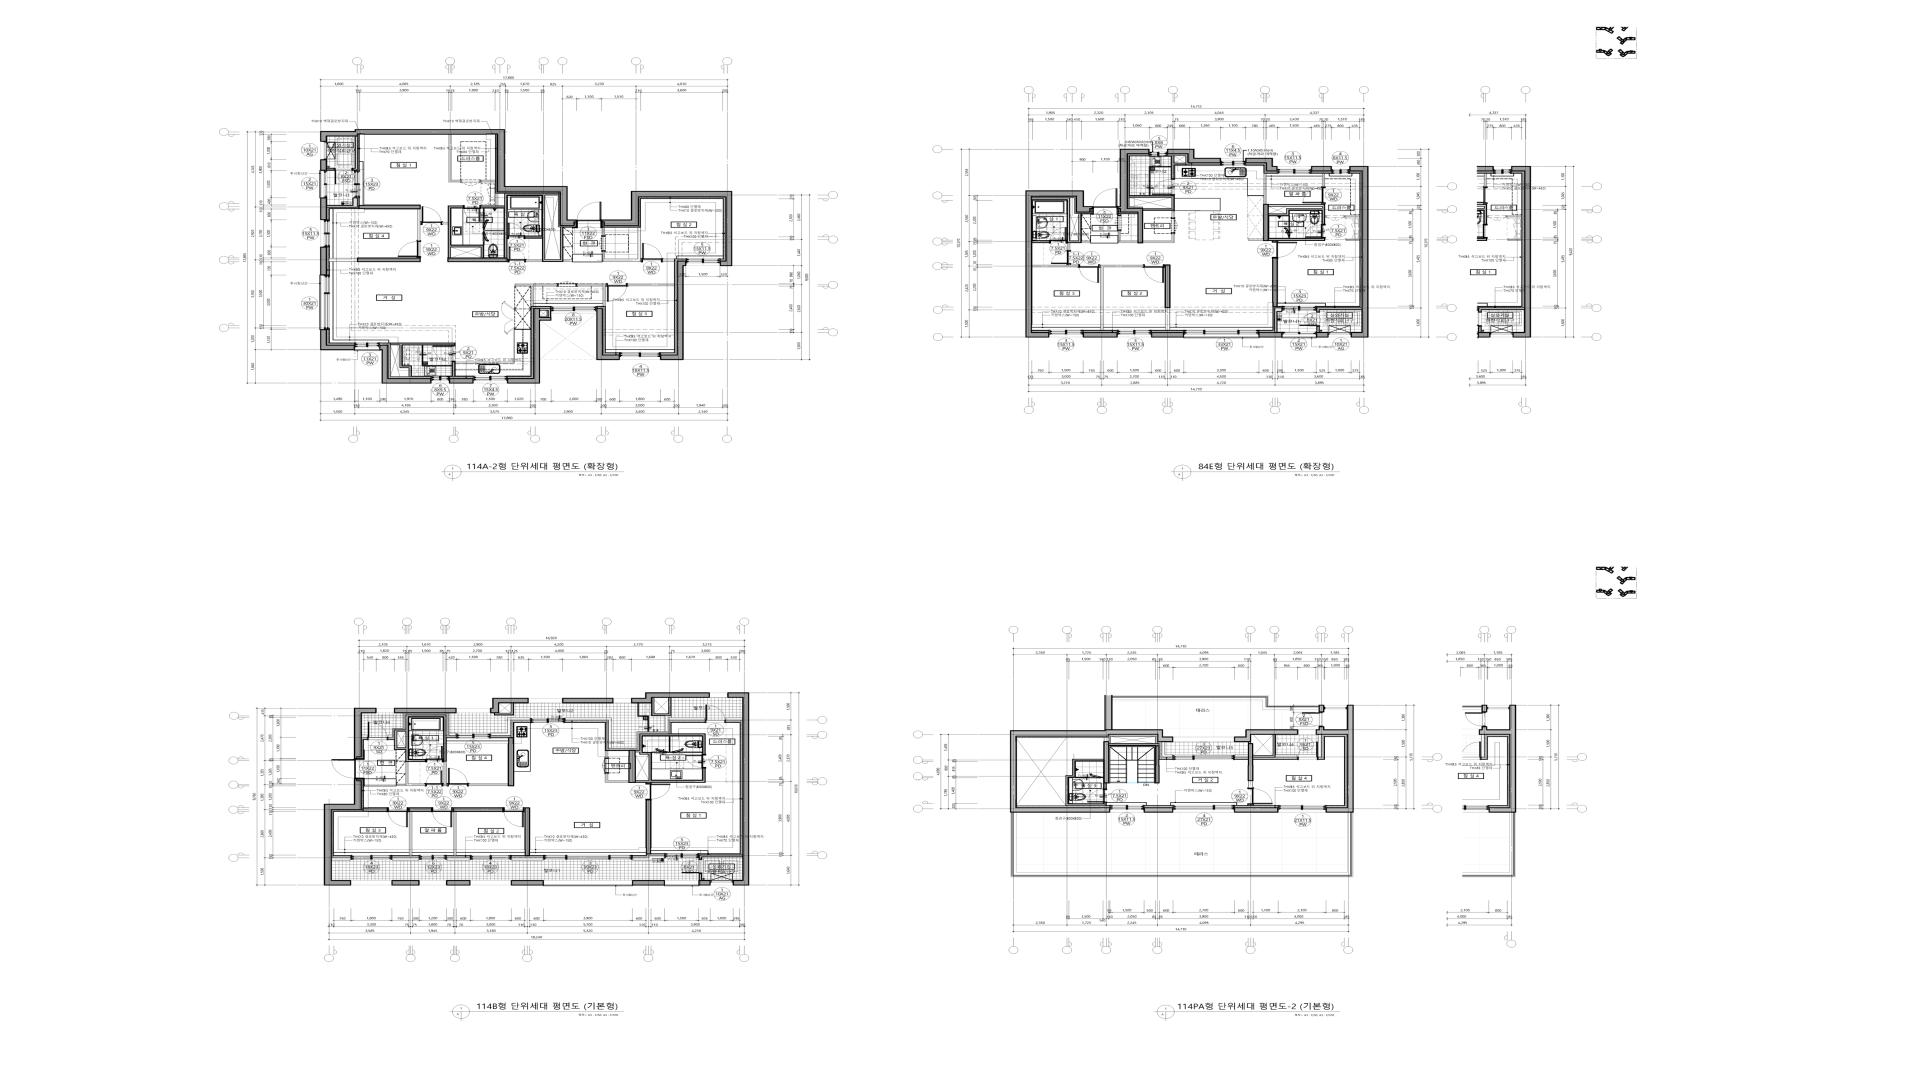door: (331, 758, 364, 779), (576, 202, 601, 228), (1093, 189, 1117, 215), (431, 807, 454, 828), (1271, 241, 1298, 258), (1079, 264, 1101, 284), (502, 807, 525, 827), (386, 807, 409, 827), (645, 783, 670, 800), (1247, 789, 1273, 806), (447, 767, 468, 787), (367, 721, 388, 741), (1143, 264, 1164, 284), (641, 243, 662, 262), (605, 284, 628, 302), (1298, 741, 1319, 760), (421, 207, 442, 225), (1303, 187, 1325, 204), (1151, 179, 1175, 195), (705, 704, 725, 723), (433, 345, 455, 361), (398, 241, 421, 257), (682, 858, 703, 874), (1299, 311, 1320, 327), (686, 754, 707, 769), (1302, 712, 1323, 727), (1087, 789, 1108, 803), (335, 167, 352, 185), (1050, 227, 1067, 244), (508, 247, 526, 262), (463, 206, 481, 222), (1051, 251, 1071, 265), (426, 746, 443, 762), (426, 771, 443, 787), (508, 223, 525, 239), (1305, 224, 1325, 237), (460, 179, 481, 186), (1325, 215, 1345, 222), (601, 758, 609, 773), (1171, 218, 1178, 233), (558, 281, 576, 286)
wall: (320, 129, 576, 225), (1010, 812, 1353, 877), (1010, 695, 1174, 812), (1026, 190, 1093, 338), (601, 191, 732, 266), (481, 194, 572, 262), (1316, 704, 1354, 812), (728, 692, 749, 886), (323, 779, 361, 886), (394, 715, 447, 786), (636, 733, 705, 783), (1349, 166, 1369, 338), (506, 309, 551, 384), (1118, 149, 1150, 244), (1113, 695, 1319, 709), (1100, 265, 1143, 330), (659, 261, 686, 360), (1033, 198, 1091, 243), (390, 343, 455, 377), (442, 206, 484, 257), (380, 345, 431, 384), (1065, 760, 1106, 806), (651, 698, 705, 732), (564, 717, 612, 749), (603, 228, 641, 262), (596, 309, 620, 360), (353, 708, 376, 758), (1269, 204, 1325, 224), (1254, 735, 1298, 758), (514, 284, 558, 306), (1129, 196, 1175, 218), (1234, 729, 1299, 742), (630, 692, 709, 703), (1167, 149, 1221, 164), (491, 717, 530, 736), (320, 330, 355, 351), (576, 284, 605, 306), (489, 698, 529, 713), (448, 135, 460, 182), (1245, 158, 1278, 171), (1171, 156, 1185, 179), (357, 257, 421, 262), (359, 204, 421, 210), (394, 708, 456, 713), (508, 737, 514, 786), (447, 257, 508, 262), (1143, 233, 1175, 243), (1164, 265, 1171, 309), (646, 800, 651, 855), (327, 198, 357, 207), (562, 698, 613, 703), (495, 703, 514, 716), (1273, 258, 1278, 307), (525, 807, 530, 856), (454, 807, 502, 812), (1247, 744, 1254, 781), (1234, 807, 1279, 812), (1118, 231, 1138, 243), (1269, 237, 1325, 241), (1104, 741, 1109, 783), (629, 750, 636, 783), (632, 880, 665, 886), (605, 774, 628, 783), (1274, 307, 1282, 332), (1263, 204, 1269, 241), (320, 247, 327, 276), (1083, 332, 1118, 338), (392, 880, 419, 886), (1316, 307, 1362, 311), (352, 137, 357, 170), (510, 881, 543, 886), (1151, 332, 1184, 338), (699, 855, 742, 858), (409, 812, 413, 856), (633, 856, 665, 861), (1143, 807, 1174, 812), (1162, 742, 1172, 757), (1155, 745, 1159, 783), (320, 198, 327, 220), (448, 378, 473, 384), (446, 881, 471, 886), (1109, 744, 1159, 746), (1258, 332, 1283, 338), (363, 807, 386, 812), (1033, 265, 1079, 268), (628, 284, 674, 286), (1263, 174, 1267, 204), (409, 807, 431, 812), (328, 258, 357, 262), (454, 812, 456, 856), (1311, 166, 1332, 171), (468, 783, 508, 786), (418, 210, 421, 241), (1166, 309, 1170, 330), (512, 858, 543, 861), (541, 309, 551, 316), (320, 160, 327, 171), (699, 880, 711, 886), (451, 363, 456, 377), (392, 858, 419, 861), (1316, 332, 1329, 338), (447, 858, 469, 861), (1319, 735, 1321, 757), (332, 858, 351, 861), (662, 258, 674, 262), (1033, 240, 1050, 243), (725, 717, 742, 720), (1319, 704, 1324, 712), (1249, 239, 1263, 241), (1323, 174, 1325, 187), (1234, 754, 1247, 757), (1346, 239, 1360, 241), (1067, 243, 1071, 251), (1249, 781, 1253, 789), (496, 194, 498, 206), (603, 228, 605, 236), (514, 785, 530, 786), (699, 874, 703, 880), (1316, 327, 1320, 332), (1345, 216, 1360, 218), (481, 181, 496, 182), (327, 167, 334, 170), (605, 752, 608, 758), (450, 733, 456, 736), (388, 735, 393, 737), (361, 735, 367, 737), (1104, 783, 1106, 789), (1104, 738, 1109, 741), (1118, 214, 1121, 215)
window: (1184, 330, 1258, 339), (319, 276, 330, 330), (1174, 804, 1234, 812), (543, 855, 633, 860), (545, 881, 632, 886), (551, 306, 596, 314), (1174, 754, 1234, 760), (620, 352, 659, 360), (1279, 806, 1325, 812), (686, 258, 720, 266), (473, 376, 506, 384), (1278, 166, 1311, 174), (1050, 330, 1083, 338), (1118, 330, 1151, 338), (1110, 804, 1143, 812), (320, 220, 330, 247), (1174, 737, 1234, 741), (469, 855, 512, 860), (352, 170, 360, 198), (1283, 332, 1316, 339), (351, 855, 392, 860), (319, 171, 327, 198), (355, 343, 380, 351), (1221, 158, 1245, 166), (456, 733, 491, 738), (665, 853, 699, 858), (665, 881, 699, 886), (1282, 306, 1316, 311), (456, 708, 489, 713), (351, 881, 392, 885), (471, 881, 510, 885), (419, 855, 447, 860), (431, 376, 448, 384), (1150, 149, 1167, 157), (1332, 166, 1349, 174), (530, 719, 564, 723), (529, 699, 562, 703), (711, 880, 733, 885), (320, 142, 327, 160), (1329, 332, 1350, 338), (419, 881, 446, 885), (709, 692, 727, 698), (1299, 729, 1316, 735), (377, 708, 394, 713), (1324, 705, 1346, 709), (613, 699, 630, 703)
